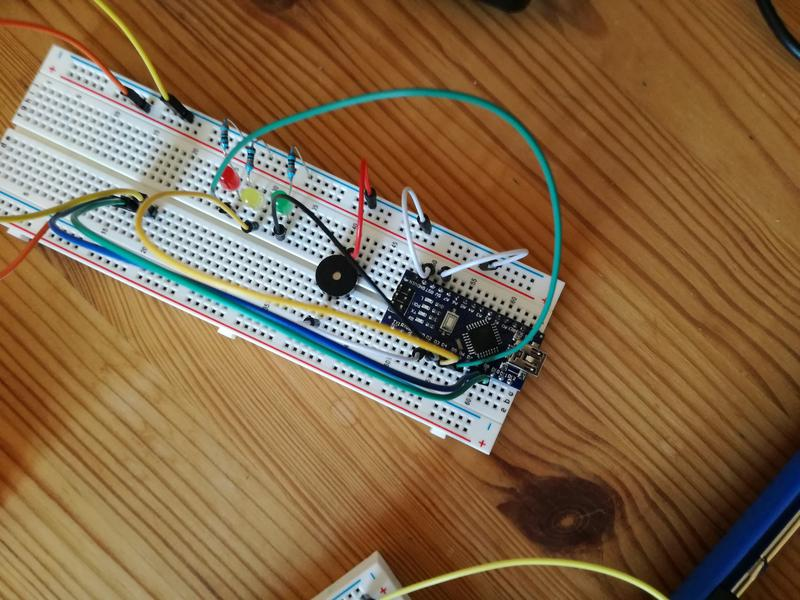Arduino_Nano: (378, 268, 548, 393)
